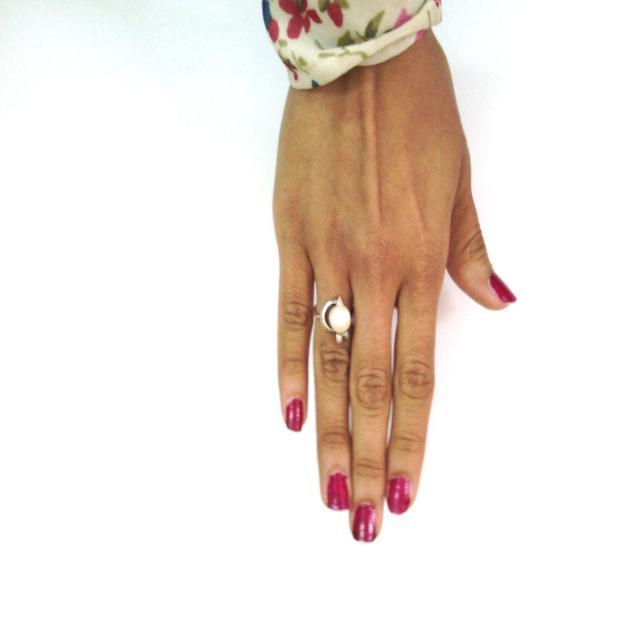Fingernail: (387, 476, 410, 514), (354, 505, 376, 542), (328, 473, 348, 510), (491, 274, 517, 302), (287, 400, 303, 431)
